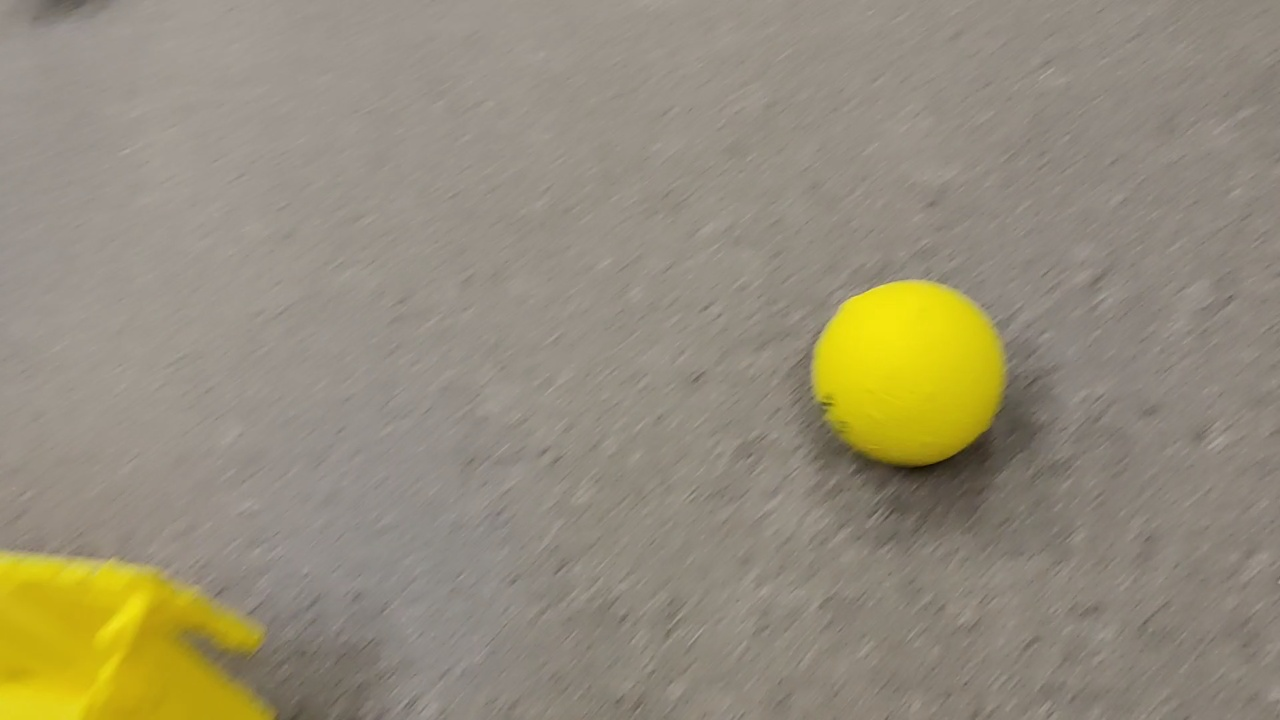Ball: (812, 276, 1008, 463)
